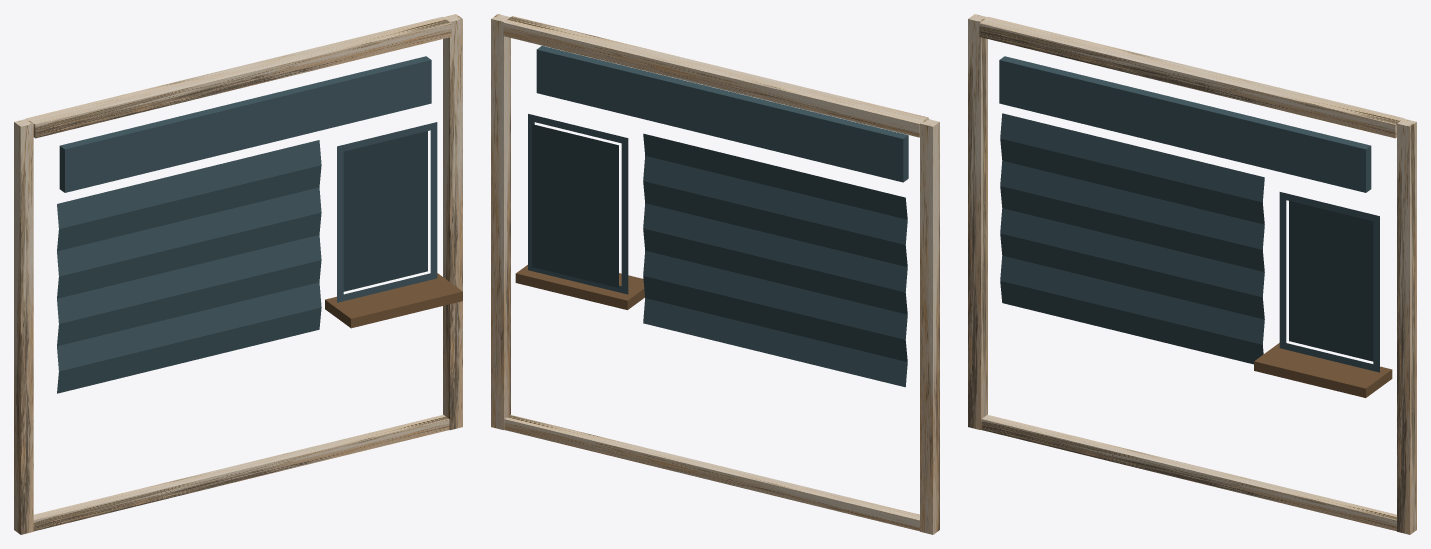
The model's file is facade_workshop_ground.glb.
The picture shows the model from 3 angles, left to right: view 1: azimuth 30°, elevation 25°; view 2: azimuth 150°, elevation 25°; view 3: azimuth 330°, elevation 25°; orthographic projection.
Parts seen in each view (by area): view 1: lod1_facade_workshop_ground__VVK_painted_steel, lod1_facade_workshop_ground__VVK_concrete_CC0, lod1_facade_workshop_ground__VVK_dark_glass, lod1_facade_workshop_ground__VVK_weathered_wood; view 2: lod1_facade_workshop_ground__VVK_painted_steel, lod1_facade_workshop_ground__VVK_concrete_CC0, lod1_facade_workshop_ground__VVK_dark_glass, lod1_facade_workshop_ground__VVK_weathered_wood; view 3: lod1_facade_workshop_ground__VVK_painted_steel, lod1_facade_workshop_ground__VVK_concrete_CC0, lod1_facade_workshop_ground__VVK_dark_glass, lod1_facade_workshop_ground__VVK_weathered_wood.
Boxes of the visible parts, left/top/right/bottom form: lod1_facade_workshop_ground__VVK_painted_steel: left=57, top=56, right=437, bottom=393; lod1_facade_workshop_ground__VVK_concrete_CC0: left=14, top=14, right=462, bottom=534; lod1_facade_workshop_ground__VVK_dark_glass: left=343, top=131, right=427, bottom=291; lod1_facade_workshop_ground__VVK_weathered_wood: left=325, top=273, right=462, bottom=328; lod1_facade_workshop_ground__VVK_painted_steel: left=528, top=46, right=908, bottom=387; lod1_facade_workshop_ground__VVK_concrete_CC0: left=491, top=14, right=939, bottom=534; lod1_facade_workshop_ground__VVK_dark_glass: left=532, top=124, right=618, bottom=287; lod1_facade_workshop_ground__VVK_weathered_wood: left=515, top=265, right=644, bottom=309; lod1_facade_workshop_ground__VVK_painted_steel: left=999, top=56, right=1379, bottom=372; lod1_facade_workshop_ground__VVK_concrete_CC0: left=968, top=14, right=1416, bottom=534; lod1_facade_workshop_ground__VVK_dark_glass: left=1289, top=201, right=1373, bottom=361; lod1_facade_workshop_ground__VVK_weathered_wood: left=1254, top=343, right=1392, bottom=397.
Size of the model in its own units: 3.4 by 3 by 0.393.
Materials: 4 (1 with a texture image).
